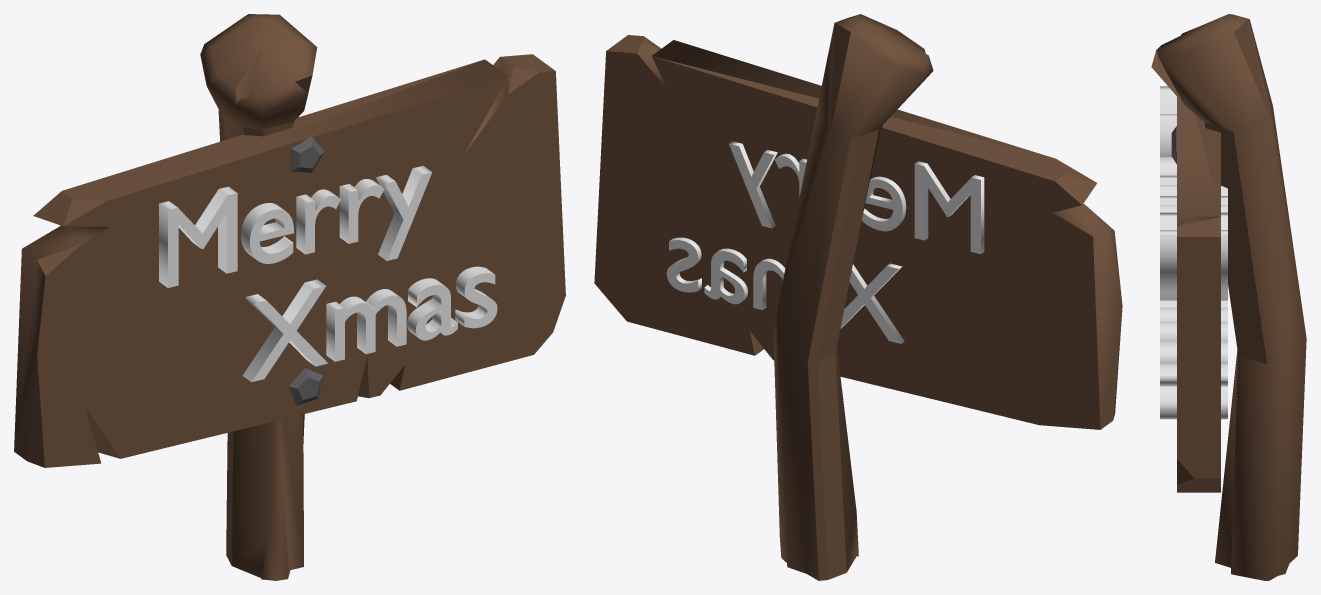
Rendered from sign.glb.
The picture shows the model from 3 angles, left to right: view 1: azimuth 30°, elevation 25°; view 2: azimuth 150°, elevation 25°; view 3: azimuth 270°, elevation 25°; orthographic projection. The views are drawn at different scales.
Parts seen in each view (by area): view 1: post1, Text; view 2: post1, Text; view 3: post1, Text.
Boxes of the visible parts, x1,y1,x2,y2 form: post1: [14, 14, 565, 580]; Text: [159, 165, 497, 382]; post1: [594, 14, 1122, 580]; Text: [666, 141, 984, 343]; post1: [1151, 14, 1306, 580]; Text: [1160, 86, 1227, 419].
Size of the model in its own units: 0.344 by 0.3481 by 0.0913.
